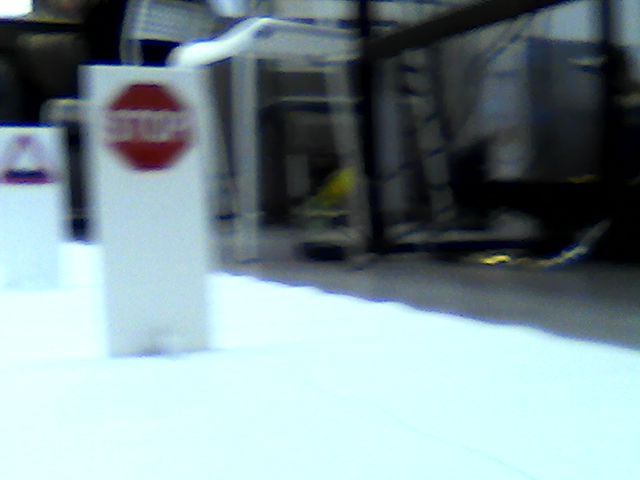Stop: (107, 78, 194, 170)
